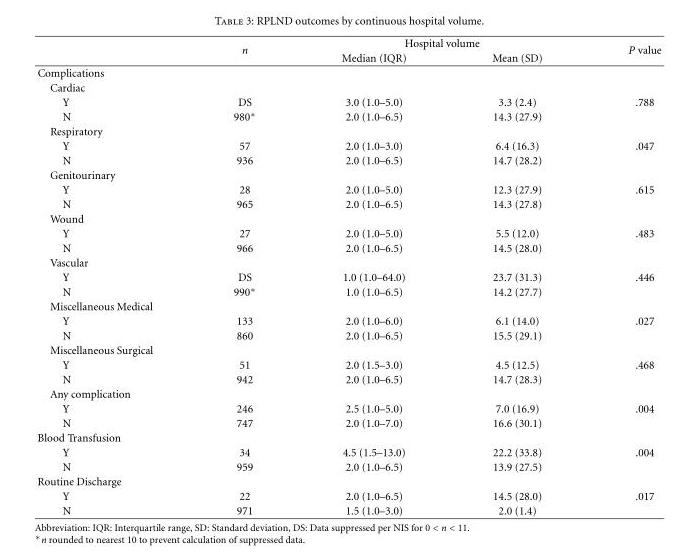table: (36, 36, 660, 516)
table column: (36, 36, 192, 516), (297, 36, 448, 516), (448, 36, 584, 516), (192, 36, 297, 516), (584, 36, 660, 516)
table column header: (36, 36, 660, 65)
table projected row header: (36, 79, 660, 94), (36, 123, 660, 138), (36, 167, 660, 182), (36, 298, 660, 313), (36, 342, 660, 357), (36, 473, 660, 488), (36, 65, 660, 79), (36, 211, 660, 225), (36, 255, 660, 269), (36, 386, 660, 400), (36, 430, 660, 444)
table row: (36, 50, 660, 65), (36, 79, 660, 94), (36, 108, 660, 123), (36, 123, 660, 138), (36, 152, 660, 167), (36, 167, 660, 182), (36, 196, 660, 211), (36, 225, 660, 240), (36, 240, 660, 255), (36, 283, 660, 298), (36, 298, 660, 313), (36, 327, 660, 342), (36, 342, 660, 357), (36, 371, 660, 386), (36, 400, 660, 415), (36, 415, 660, 430), (36, 444, 660, 459), (36, 473, 660, 488), (36, 488, 660, 503), (36, 36, 660, 50), (36, 65, 660, 79), (36, 94, 660, 108), (36, 138, 660, 152), (36, 182, 660, 196), (36, 211, 660, 225), (36, 255, 660, 269), (36, 269, 660, 283), (36, 313, 660, 327), (36, 357, 660, 371), (36, 386, 660, 400), (36, 430, 660, 444), (36, 459, 660, 473), (36, 503, 660, 516)
table spanning cell: (297, 36, 584, 50), (192, 36, 297, 65), (584, 36, 660, 65)
